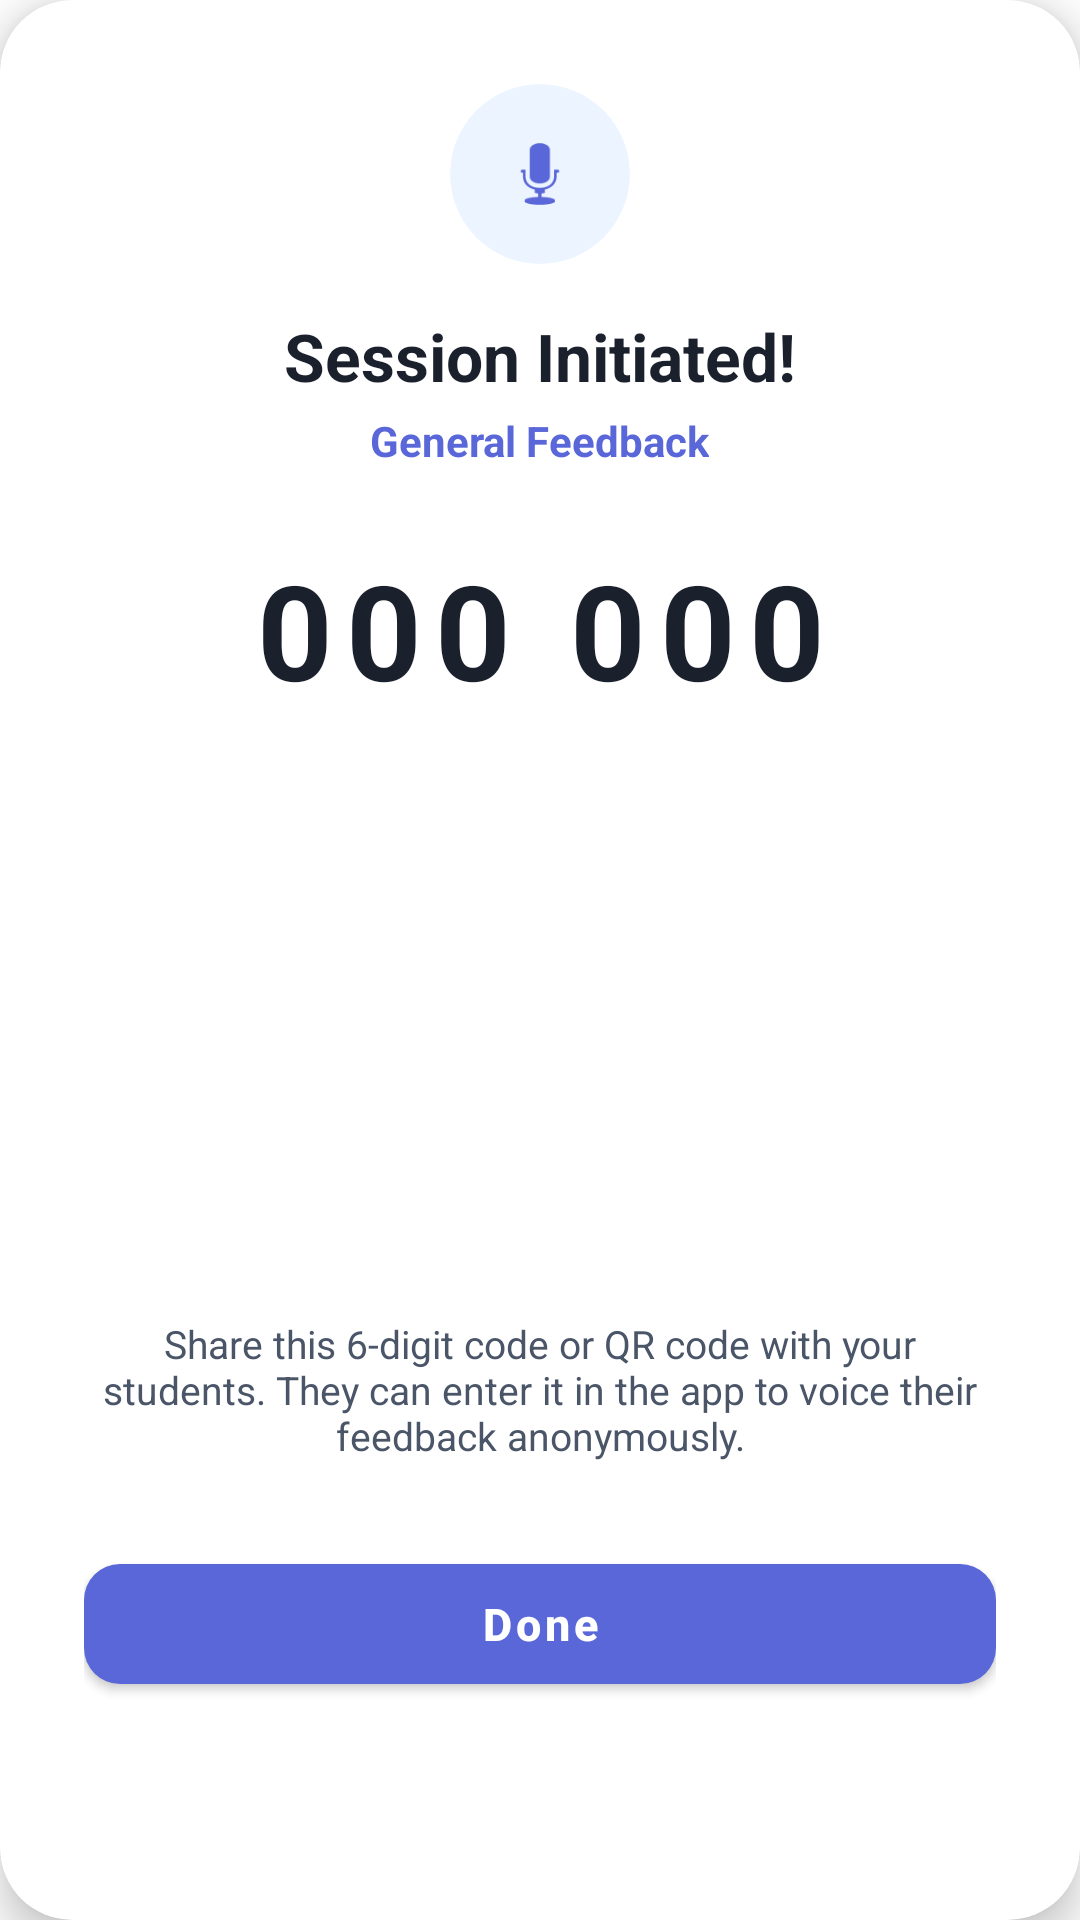

Point at icon controls on the screen. Image size 1080 x 1920, points as [x,y].
speak now: [540,174]
